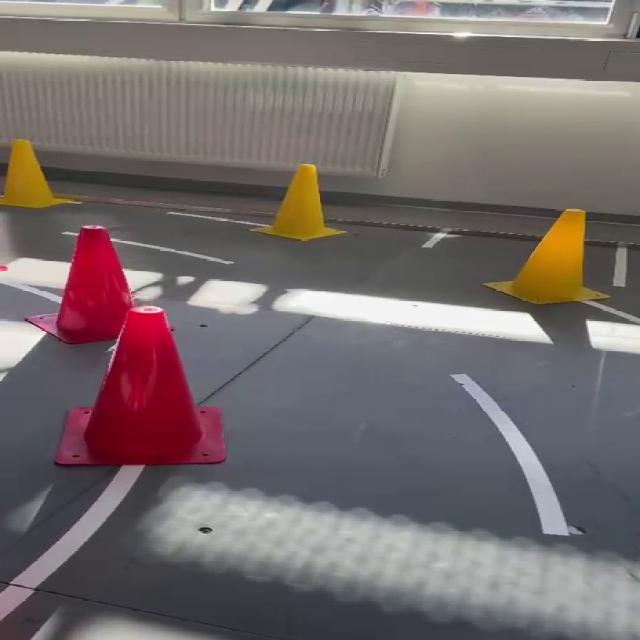Cone-red: (55, 307, 225, 465), (28, 226, 132, 344)
Cones-yellow: (486, 209, 607, 304), (254, 164, 343, 240), (0, 139, 77, 208)
